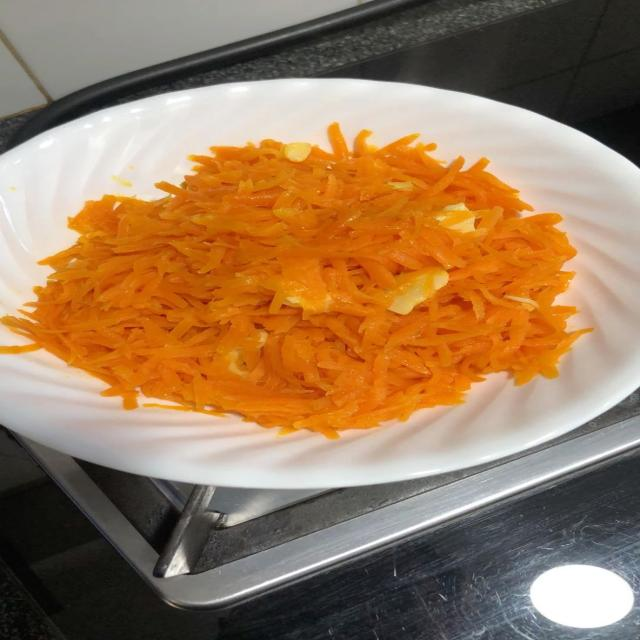carrot: (0, 124, 583, 437)
